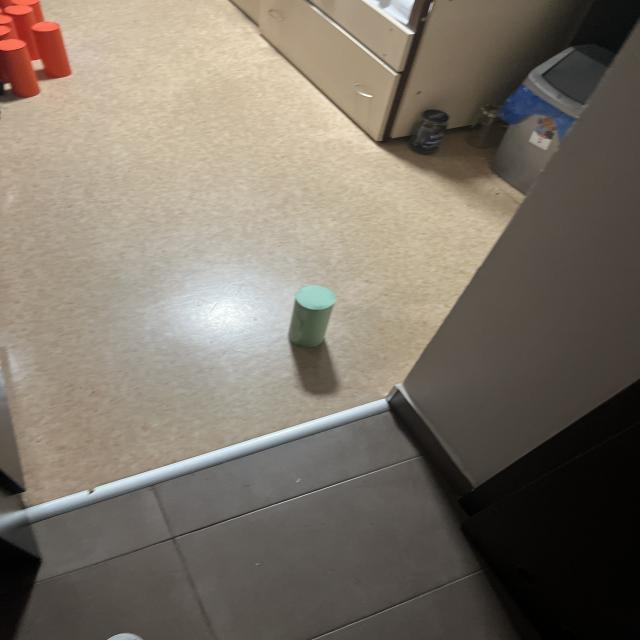meta: (289, 285, 336, 347)
